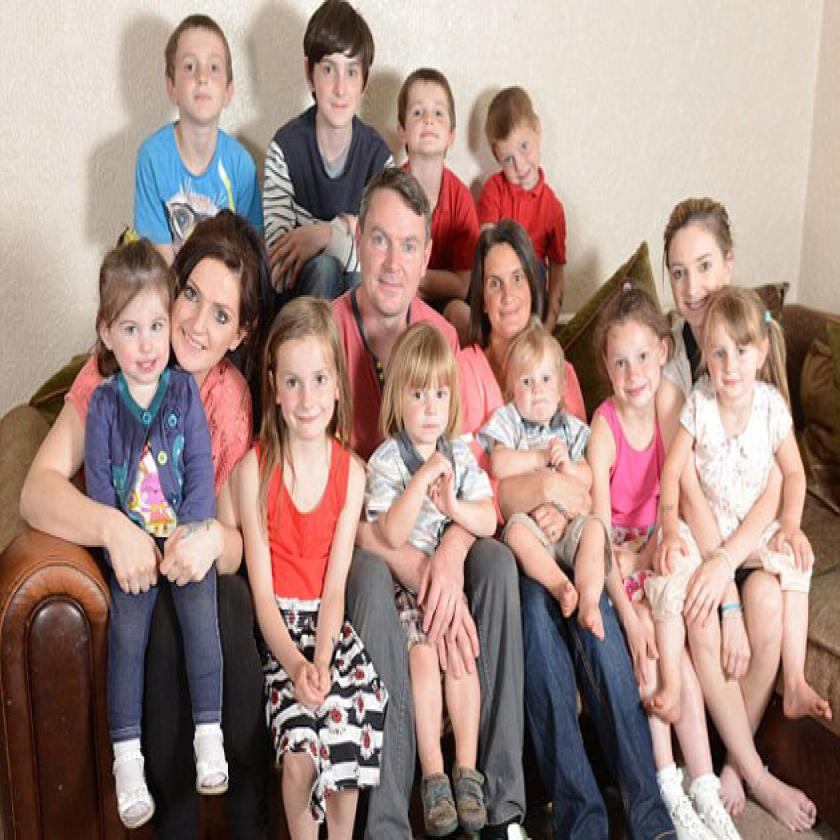Sin_casco: (172, 202, 269, 396), (352, 154, 435, 322), (269, 292, 347, 463), (99, 233, 172, 393), (300, 0, 379, 139), (599, 281, 669, 433), (168, 7, 238, 155), (664, 193, 734, 341), (699, 278, 774, 416), (393, 317, 459, 463), (471, 224, 541, 350), (506, 319, 570, 449), (484, 80, 548, 196), (398, 55, 461, 165)
